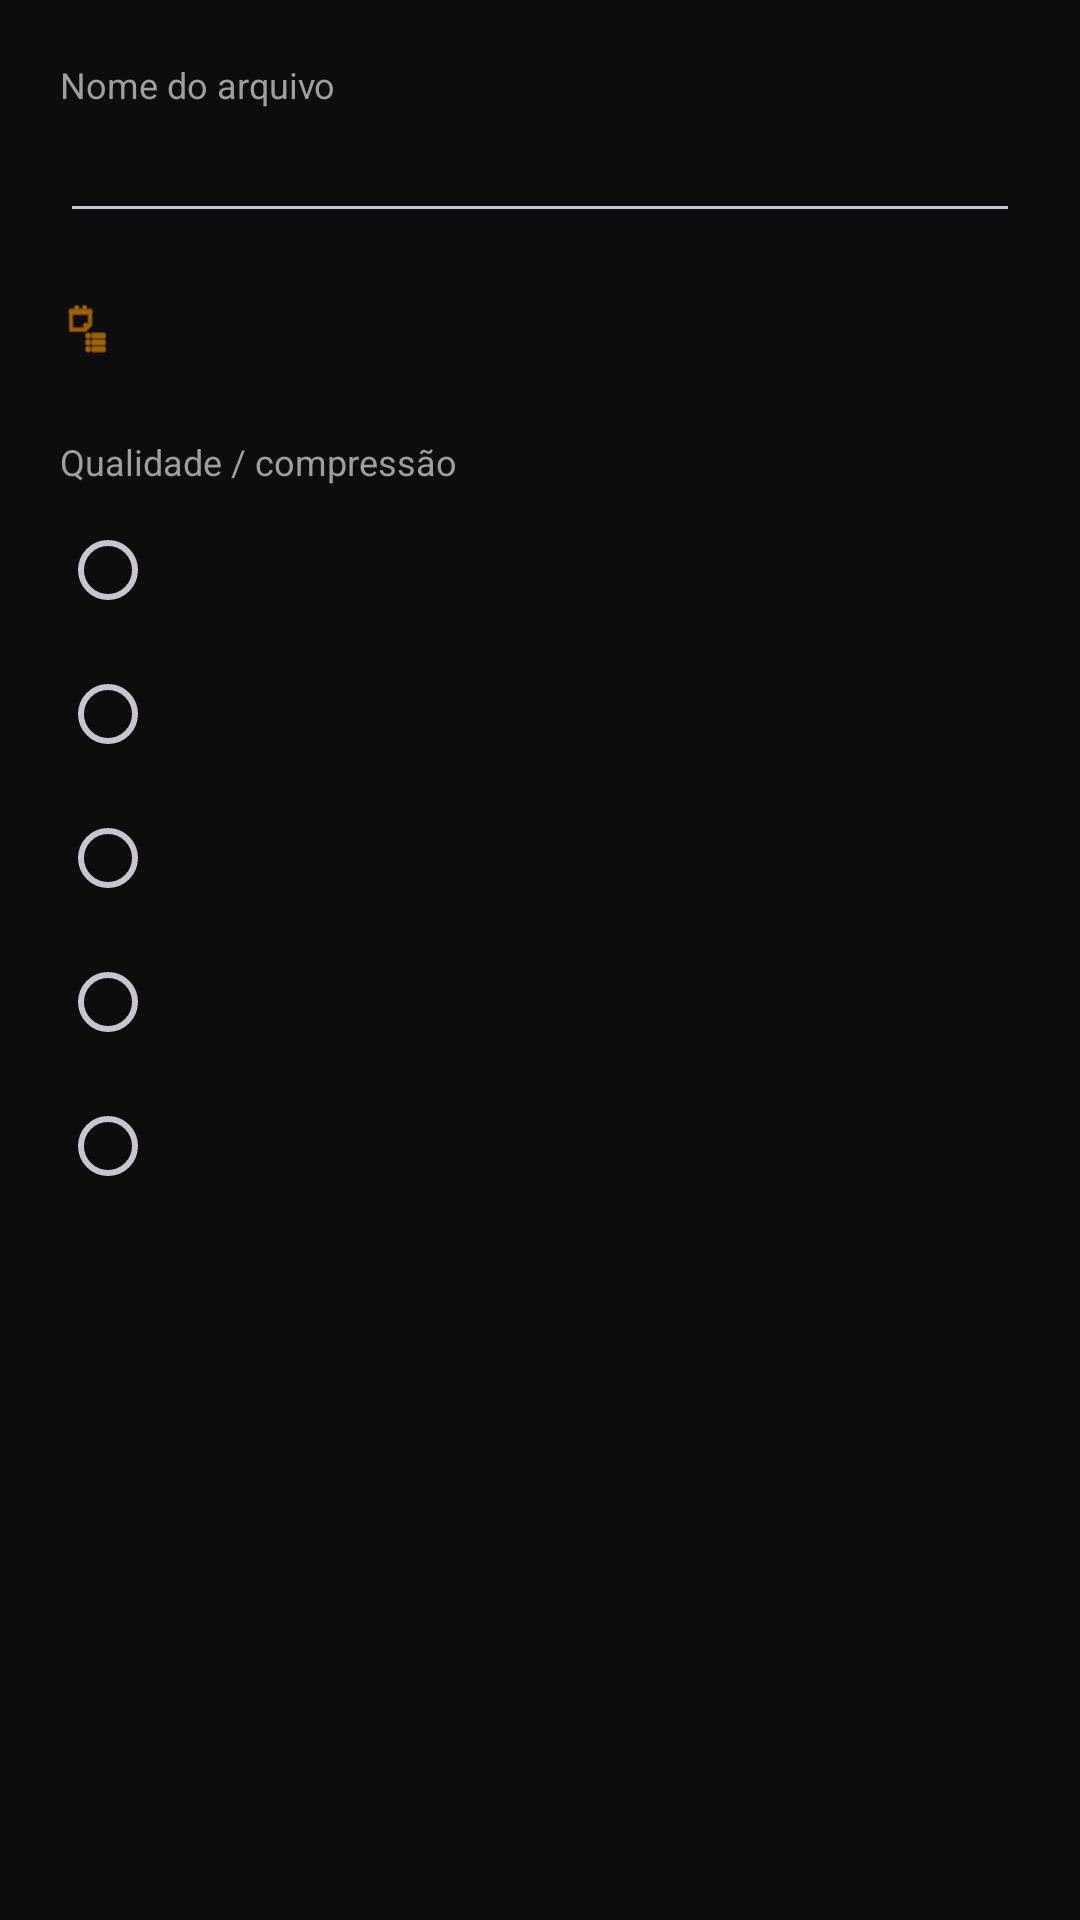

Locate icon controls on the screen. Image size 1080w x 1920h, boxes as (x1, y1, x2, y2).
agenda: (68, 305, 106, 353)
